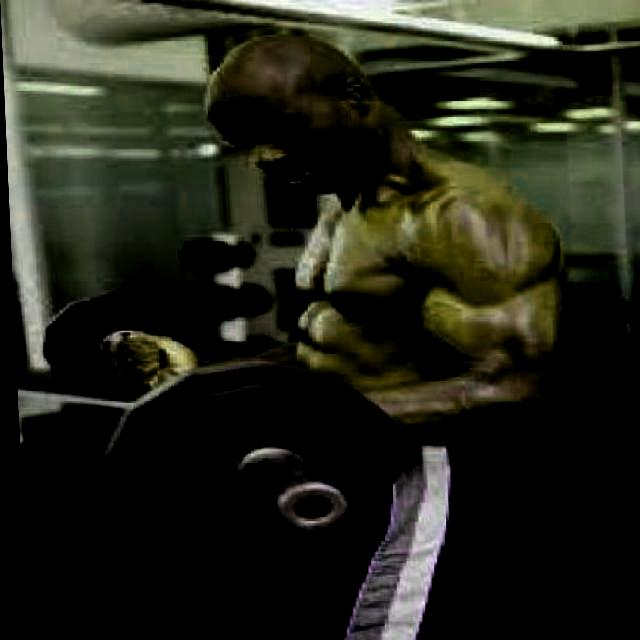barbell: (93, 360, 405, 545)
